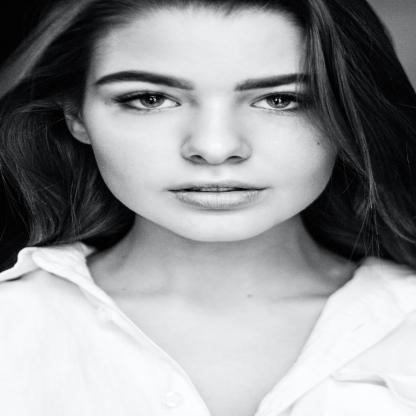Eye: (109, 85, 186, 116), (245, 87, 313, 119)
Mouth: (162, 175, 272, 211)
Nose: (175, 98, 257, 166)
